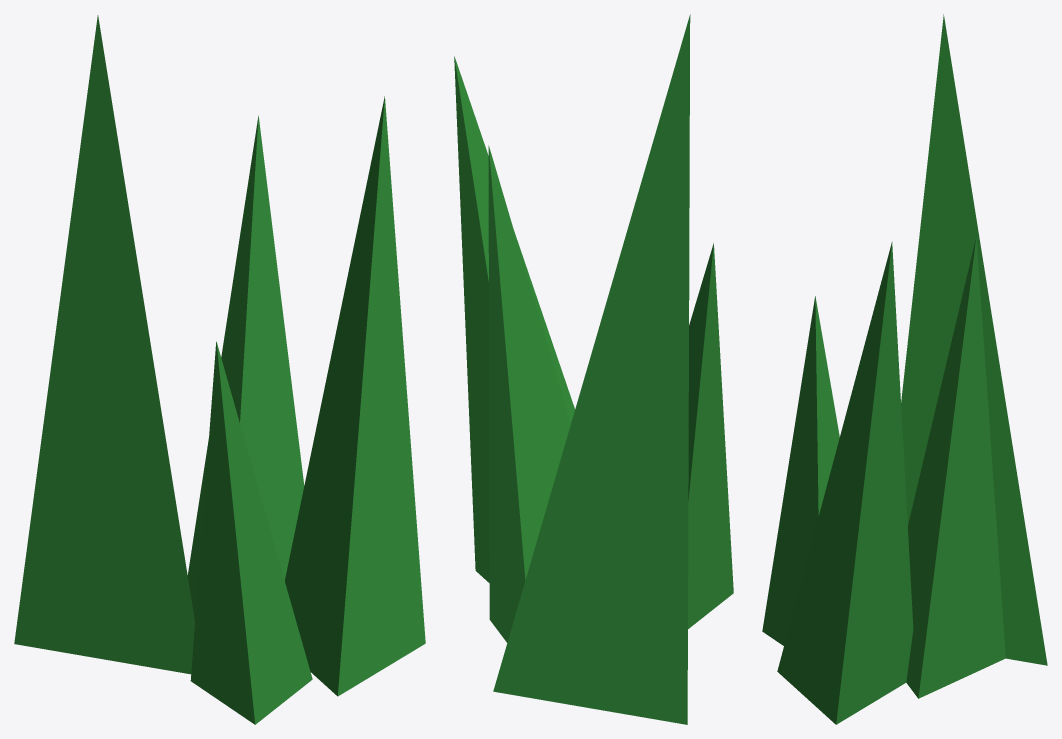
File: Grass_1_Green.fbx
3 views of the same model, side by side, from view 1: azimuth 30°, elevation 25°; view 2: azimuth 150°, elevation 25°; view 3: azimuth 270°, elevation 25° (orthographic). The views are drawn at different scales.
Visible parts, largest first — view 1: Grass_1_Green; view 2: Grass_1_Green; view 3: Grass_1_Green.
Boxes of the visible parts, left/top/right/bottom form: Grass_1_Green: left=14, top=15, right=425, bottom=724; Grass_1_Green: left=454, top=14, right=733, bottom=724; Grass_1_Green: left=762, top=14, right=1047, bottom=724.
Size of the model in its own units: 27.2 by 54.81 by 23.94.
